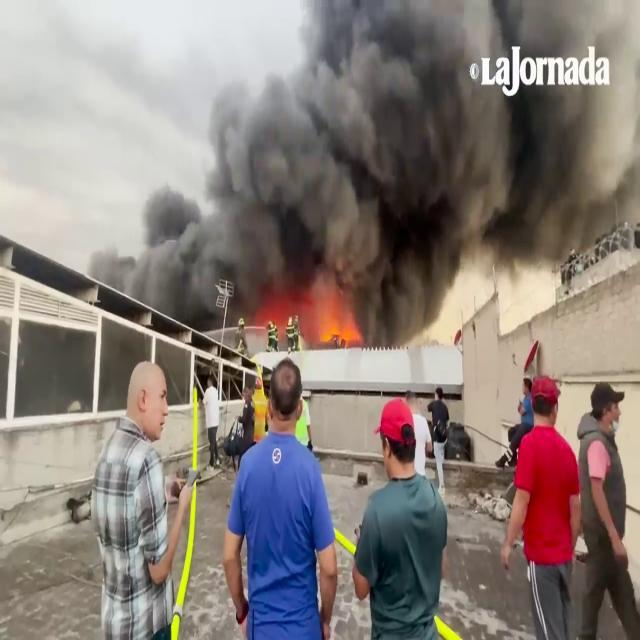Fire: (260, 293, 358, 352)
Smoke: (95, 1, 640, 306)
